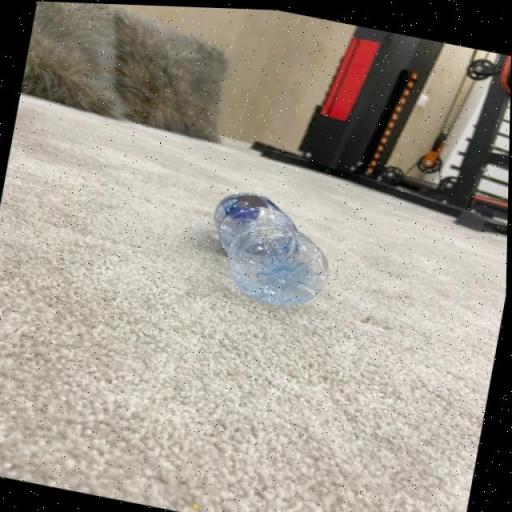plastic: (197, 180, 346, 318)
